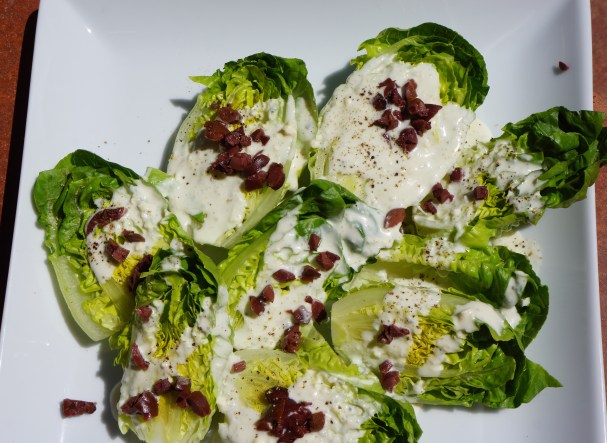chopped lettuce: (219, 116, 531, 411), (46, 162, 183, 325)
